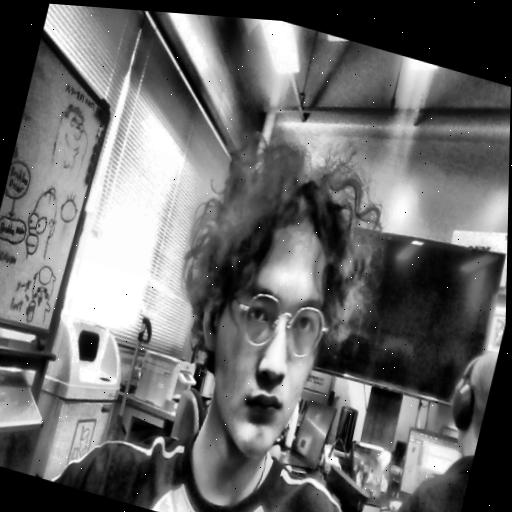Daifuku: (137, 115, 391, 484)
Not Daifuku: (435, 338, 498, 468)
